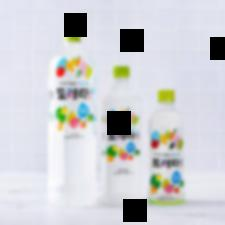toreta: (148, 88, 188, 204)
